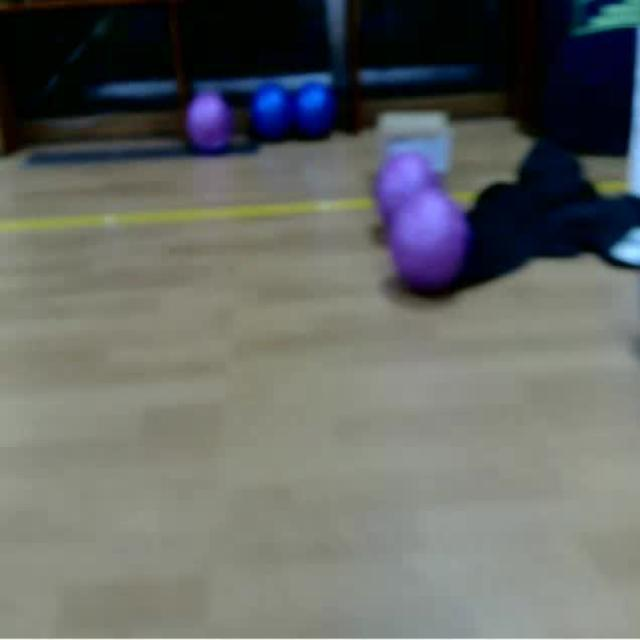blue_ball: (296, 83, 333, 136), (253, 84, 292, 134)
purple_ball: (389, 189, 468, 283), (374, 152, 436, 227), (186, 95, 229, 150)
